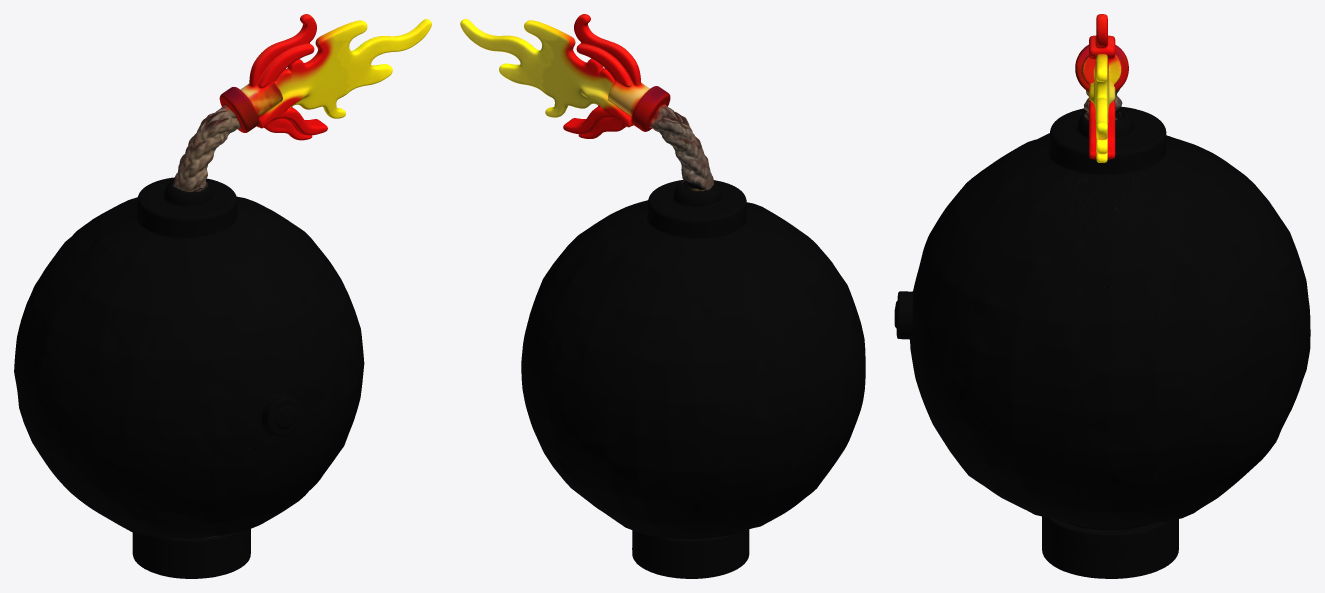
The model's file is bomb.glb.
The picture shows the model from 3 angles, left to right: view 1: azimuth 30°, elevation 25°; view 2: azimuth 150°, elevation 25°; view 3: azimuth 270°, elevation 25°; orthographic projection. The views are drawn at different scales.
Size of the model in its own units: 1.51 by 1.9 by 1.2.
Materials: 1 (1 with a texture image).
